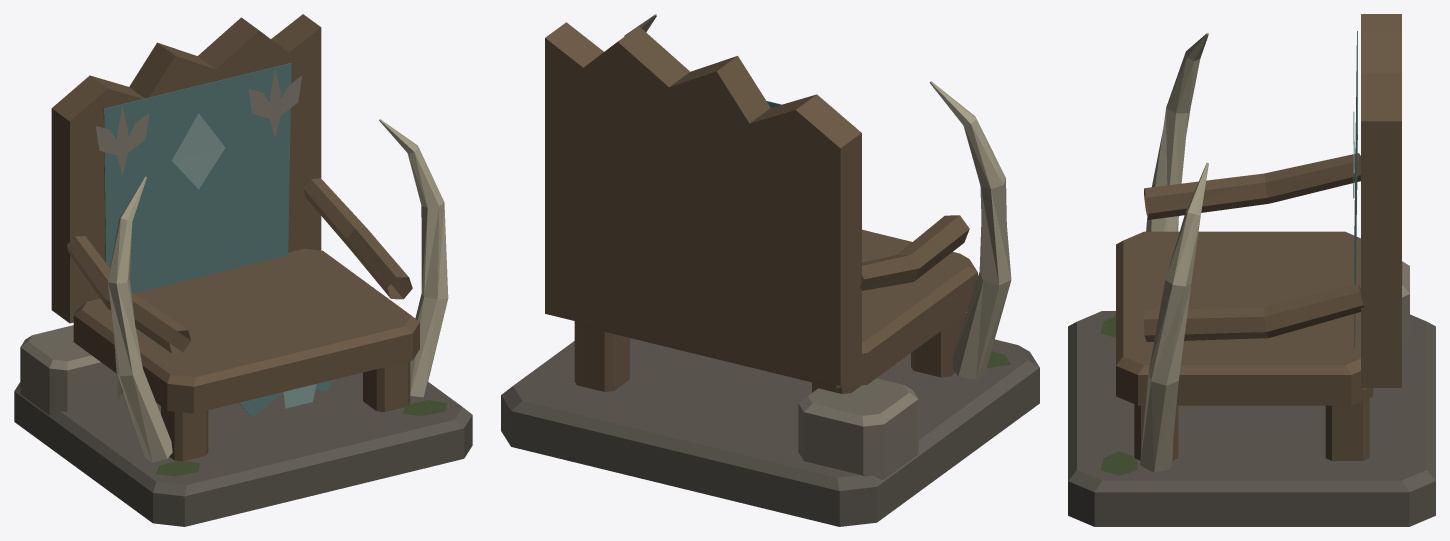
File: chieftain_throne.glb
3 views of the same model, side by side, from view 1: azimuth 30°, elevation 25°; view 2: azimuth 150°, elevation 25°; view 3: azimuth 270°, elevation 25° (orthographic). The views are drawn at different scales.
Parts seen in each view (by area): view 1: Body_chieftain_throne.001; view 2: Body_chieftain_throne.001; view 3: Body_chieftain_throne.001.
Boxes of the visible parts, box(x1,y1,x2,y2) form: Body_chieftain_throne.001: box(14, 14, 472, 526); Body_chieftain_throne.001: box(501, 14, 1039, 526); Body_chieftain_throne.001: box(1068, 14, 1435, 526).
Bounding box in the file's own units: 2.97 × 3 × 2.5.
